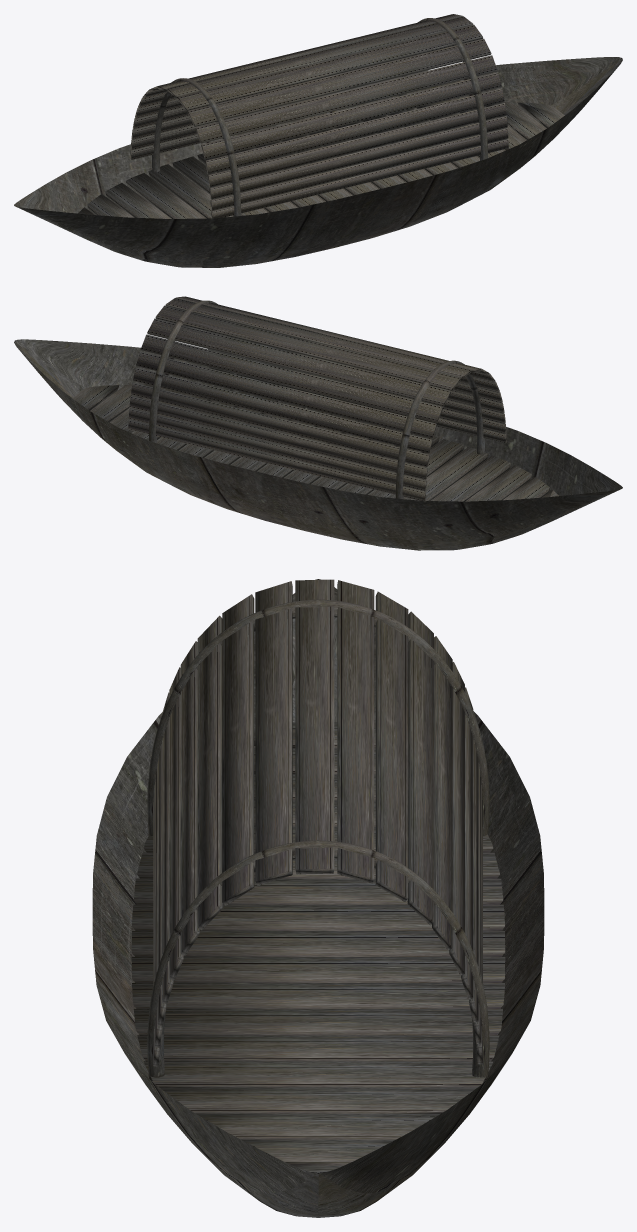
The model's file is boat.fbx.
3 renders of one model, top to bottom at view 1: azimuth 30°, elevation 25°; view 2: azimuth 150°, elevation 25°; view 3: azimuth 270°, elevation 25°, orthographic. The views are drawn at different scales.
Parts seen in each view (by area): view 1: Boat; view 2: Boat; view 3: Boat.
Boxes of the visible parts, <box> form: Boat: <box>14,14,622,267</box>; Boat: <box>14,296,622,550</box>; Boat: <box>92,579,544,1217</box>.
Size of the model in its own units: 829 by 251 by 267.
